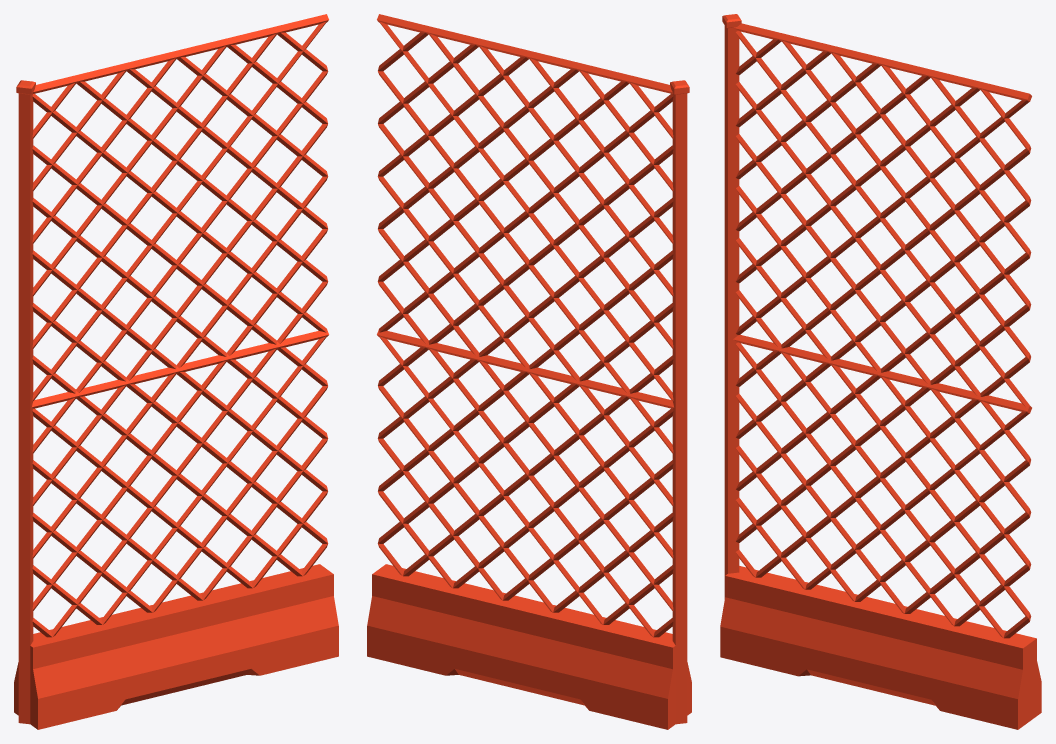
File: SM_Fence_Construction_Tall_2m_City.fbx
3 views of the same model, side by side, from view 1: azimuth 30°, elevation 25°; view 2: azimuth 150°, elevation 25°; view 3: azimuth 330°, elevation 25° (orthographic).
Visible parts, largest first — view 1: SM_Fence_Construction_Tall_2m_City; view 2: SM_Fence_Construction_Tall_2m_City; view 3: SM_Fence_Construction_Tall_2m_City.
Boxes of the visible parts, bbox=[...] form: SM_Fence_Construction_Tall_2m_City: bbox=[14, 14, 338, 729]; SM_Fence_Construction_Tall_2m_City: bbox=[367, 14, 691, 729]; SM_Fence_Construction_Tall_2m_City: bbox=[720, 14, 1041, 729].
Bounding box in the file's own units: 2.06 × 4.05 × 0.2748.
